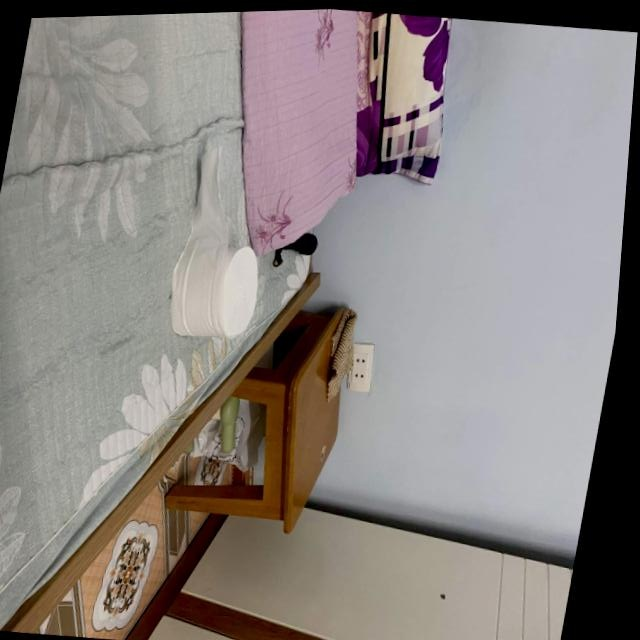outlet: (344, 340, 379, 393)
